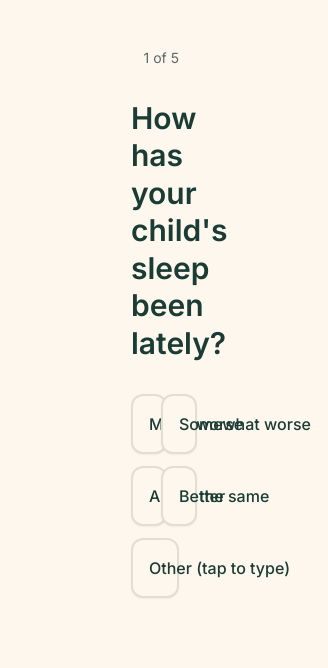
AssessmentCard › Other Text Input › should disable Continue button when text is empty
Click the button "Other (tap to type)" at (155, 568), box [131,538,179,598]
(page scrolled)
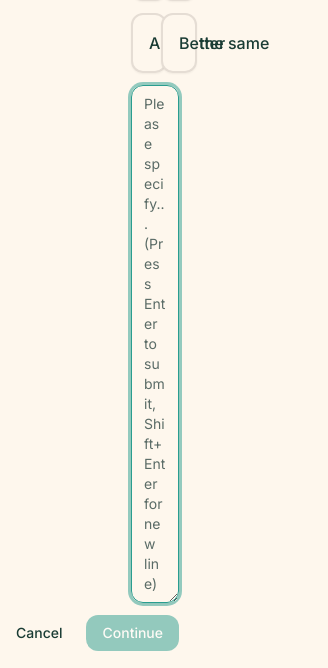
expect the button "Continue" is disabled: met, box [86,614,179,650]
